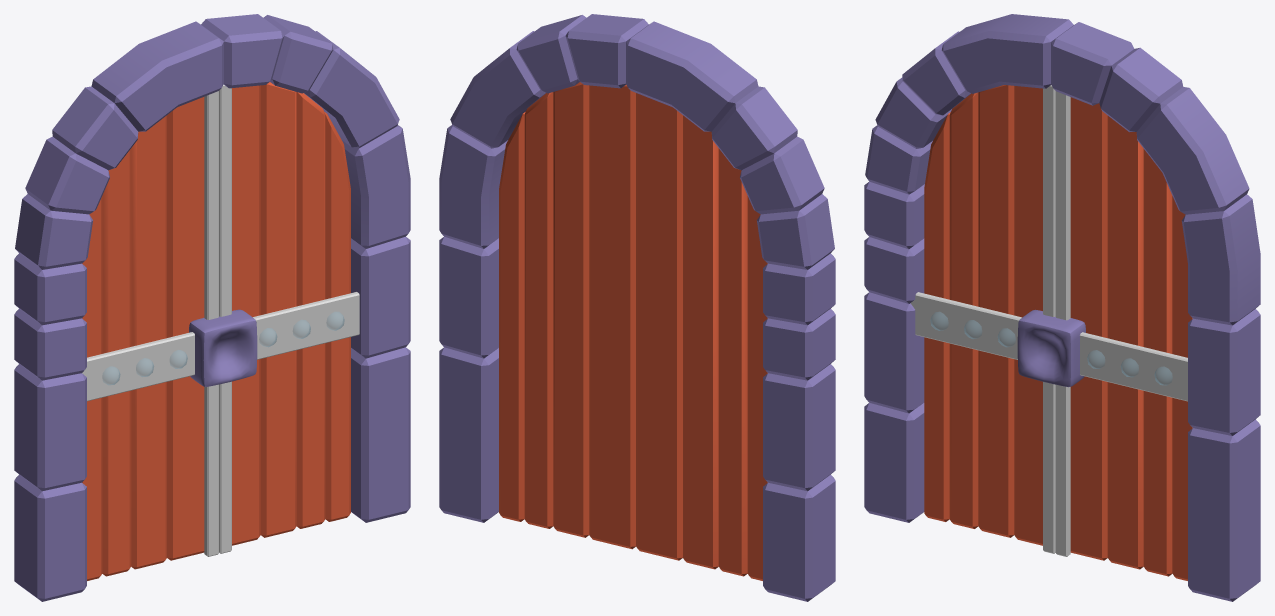
Rendered from last_level_door.glb.
3 views of the same model, side by side, from view 1: azimuth 30°, elevation 25°; view 2: azimuth 150°, elevation 25°; view 3: azimuth 330°, elevation 25° (orthographic).
Visible parts, largest first — view 1: door_mesh-col; view 2: door_mesh-col; view 3: door_mesh-col.
Boxes of the visible parts, left/top/right/bottom form: door_mesh-col: left=14, top=14, right=410, bottom=601; door_mesh-col: left=439, top=14, right=835, bottom=601; door_mesh-col: left=864, top=14, right=1260, bottom=601.
Bounding box in the file's own units: 3 × 3.99 × 0.459.
